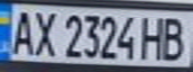2: (57, 10, 84, 58), (96, 11, 121, 60)
3: (78, 11, 103, 60)
4: (115, 12, 142, 60)
A: (6, 7, 39, 56)
B: (157, 14, 190, 61)
H: (139, 12, 169, 61)
X: (30, 8, 60, 57)
